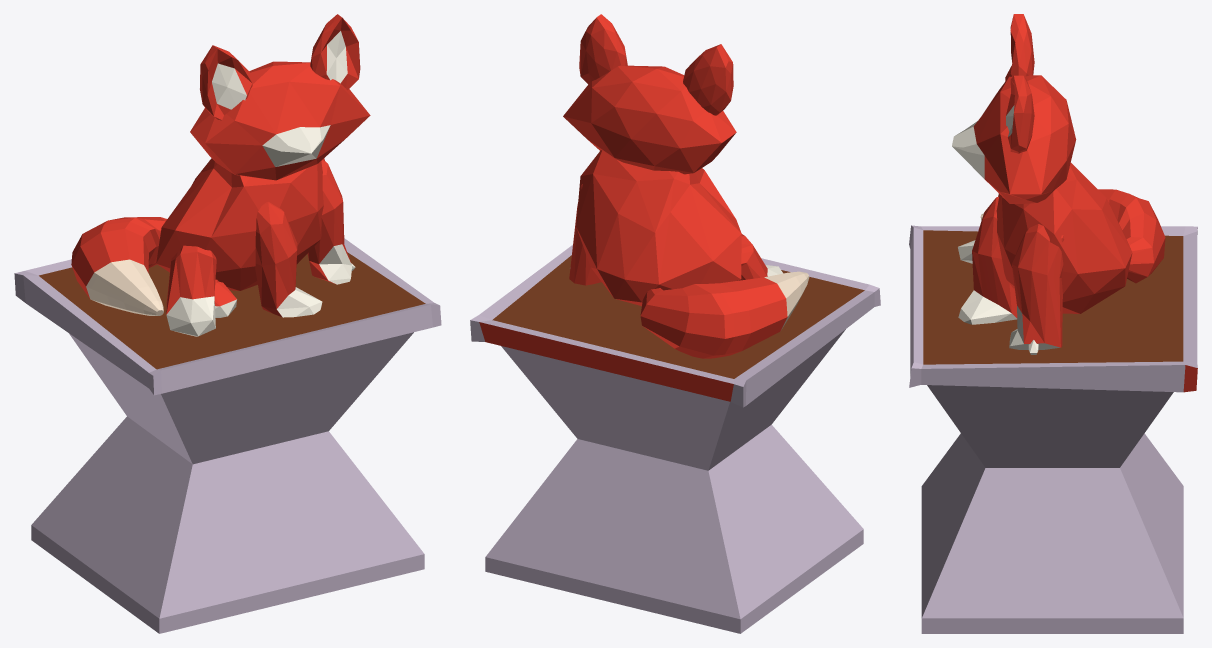
File: Finalfoxstatueblend.fbx
3 views of the same model, side by side, from view 1: azimuth 30°, elevation 25°; view 2: azimuth 150°, elevation 25°; view 3: azimuth 270°, elevation 25° (orthographic). The views are drawn at different scales.
Visible parts, largest first — view 1: Icosphere.001; view 2: Icosphere.001; view 3: Icosphere.001.
Boxes of the visible parts, x1,y1,x2,y2 form: Icosphere.001: (14,14,441,633); Icosphere.001: (470,14,880,633); Icosphere.001: (909,14,1197,633).
Bounding box in the file's own units: 1449 × 2543 × 1234.
